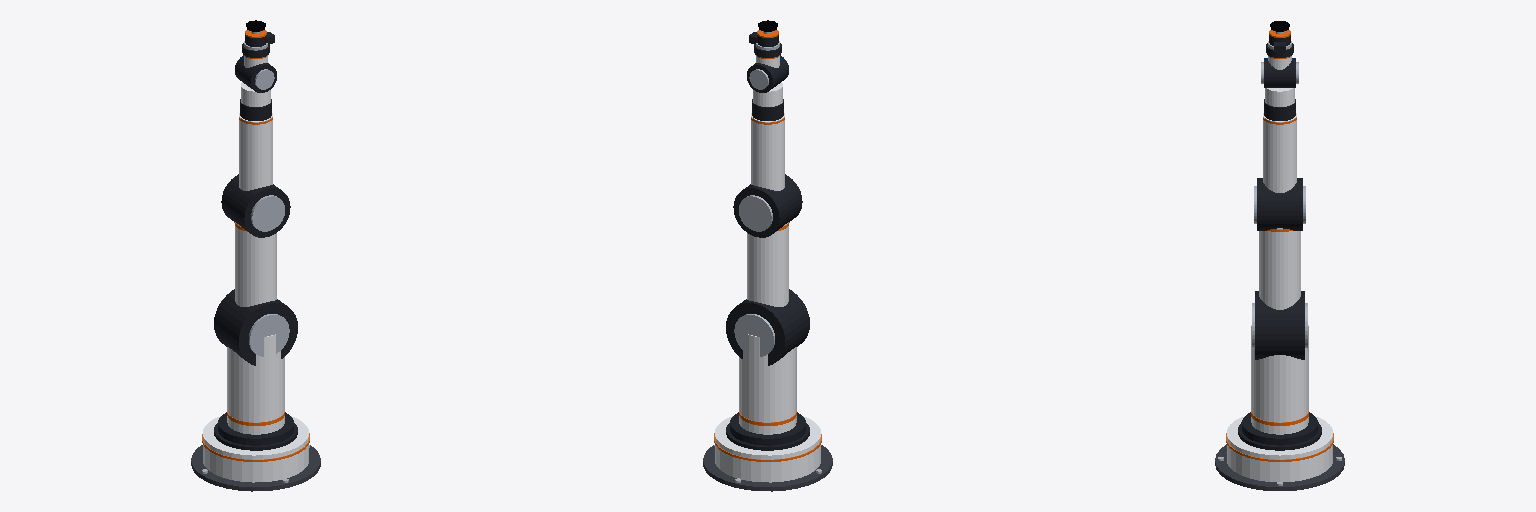
URDF robot description (robot_6axes):
<?xml version="1.0"?>
<robot name="robot_6axes">

  <!-- Base Link -->
  <link name="base_link">
    <visual>
      <geometry>
        <cylinder length="0.012" radius="0.17"/>
      </geometry>
      <origin xyz="0 0 0.006" rpy="0 0 0"/>
      <material name="anthracite">
        <color rgba="0.28 0.29 0.32 1"/>
      </material>
    </visual>
    <visual>
      <geometry>
        <cylinder length="0.078" radius="0.14"/>
      </geometry>
      <origin xyz="0 0 0.051" rpy="0 0 0"/>
      <material name="white">
        <color rgba="0.93 0.94 0.96 1"/>
      </material>
    </visual>
    <visual>
      <geometry>
        <cylinder length="0.006" radius="0.1425"/>
      </geometry>
      <origin xyz="0 0 0.075" rpy="0 0 0"/>
      <material name="orange">
        <color rgba="0.96 0.46 0.1 1"/>
      </material>
    </visual>
    <visual>
      <geometry>
        <cylinder length="0.01" radius="0.11"/>
      </geometry>
      <origin xyz="0 0 0.095" rpy="0 0 0"/>
      <material name="graphite">
        <color rgba="0.17 0.18 0.21 1"/>
      </material>
    </visual>
    <visual>
      <geometry>
        <cylinder length="0.006" radius="0.008"/>
      </geometry>
      <origin xyz="0.155 0 0.015" rpy="0 0 0"/>
      <material name="silver">
        <color rgba="0.72 0.75 0.79 1"/>
      </material>
    </visual>
    <visual>
      <geometry>
        <cylinder length="0.006" radius="0.008"/>
      </geometry>
      <origin xyz="-0.155 0 0.015" rpy="0 0 0"/>
      <material name="silver">
        <color rgba="0.72 0.75 0.79 1"/>
      </material>
    </visual>
    <visual>
      <geometry>
        <cylinder length="0.006" radius="0.008"/>
      </geometry>
      <origin xyz="0 0.155 0.015" rpy="0 0 0"/>
      <material name="silver">
        <color rgba="0.72 0.75 0.79 1"/>
      </material>
    </visual>
    <visual>
      <geometry>
        <cylinder length="0.006" radius="0.008"/>
      </geometry>
      <origin xyz="0 -0.155 0.015" rpy="0 0 0"/>
      <material name="silver">
        <color rgba="0.72 0.75 0.79 1"/>
      </material>
    </visual>
    <collision>
      <geometry>
        <cylinder length="0.1" radius="0.15"/>
      </geometry>
      <origin xyz="0 0 0.05" rpy="0 0 0"/>
    </collision>
    <inertial>
      <mass value="5.0"/>
      <origin xyz="0 0 0.05" rpy="0 0 0"/>
      <inertia ixx="0.05" ixy="0.0" ixz="0.0" iyy="0.05" iyz="0.0" izz="0.08"/>
    </inertial>
  </link>

  <!-- Link 1 -->
  <link name="link1">
    <visual>
      <geometry>
        <cylinder length="0.02" radius="0.1"/>
      </geometry>
      <origin xyz="0 0 0.01" rpy="0 0 0"/>
      <material name="graphite">
        <color rgba="0.17 0.18 0.21 1"/>
      </material>
    </visual>
    <visual>
      <geometry>
        <cylinder length="0.28" radius="0.075"/>
      </geometry>
      <origin xyz="0 0 0.16" rpy="0 0 0"/>
      <material name="white">
        <color rgba="0.93 0.94 0.96 1"/>
      </material>
    </visual>
    <visual>
      <geometry>
        <cylinder length="0.01" radius="0.0765"/>
      </geometry>
      <origin xyz="0 0 0.05" rpy="0 0 0"/>
      <material name="orange">
        <color rgba="0.96 0.46 0.1 1"/>
      </material>
    </visual>
    <visual>
      <geometry>
        <cylinder length="0.13" radius="0.09"/>
      </geometry>
      <origin xyz="0 0 0.30" rpy="1.5708 0 0"/>
      <material name="graphite">
        <color rgba="0.17 0.18 0.21 1"/>
      </material>
    </visual>
    <visual>
      <geometry>
        <cylinder length="0.145" radius="0.06"/>
      </geometry>
      <origin xyz="0 0 0.30" rpy="1.5708 0 0"/>
      <material name="silver">
        <color rgba="0.72 0.75 0.79 1"/>
      </material>
    </visual>
    <collision>
      <geometry>
        <cylinder length="0.3" radius="0.08"/>
      </geometry>
      <origin xyz="0 0 0.15" rpy="0 0 0"/>
    </collision>
    <inertial>
      <mass value="3.0"/>
      <origin xyz="0 0 0.15" rpy="0 0 0"/>
      <inertia ixx="0.025" ixy="0.0" ixz="0.0" iyy="0.025" iyz="0.0" izz="0.01"/>
    </inertial>
  </link>

  <!-- Joint 1: Base rotation -->
  <joint name="joint1" type="revolute">
    <parent link="base_link"/>
    <child link="link1"/>
    <origin xyz="0 0 0.1" rpy="0 0 0"/>
    <axis xyz="0 0 1"/>
    <limit effort="150.0" velocity="2.0" lower="-3.14159" upper="3.14159"/>
    <dynamics damping="1.5" friction="0.5"/>
  </joint>

  <!-- Link 2 -->
  <link name="link2">
    <visual>
      <geometry>
        <cylinder length="0.27" radius="0.055"/>
      </geometry>
      <origin xyz="0 0 0.18" rpy="0 0 0"/>
      <material name="white">
        <color rgba="0.93 0.94 0.96 1"/>
      </material>
    </visual>
    <visual>
      <geometry>
        <cylinder length="0.008" radius="0.0565"/>
      </geometry>
      <origin xyz="0 0 0.30" rpy="0 0 0"/>
      <material name="orange">
        <color rgba="0.96 0.46 0.1 1"/>
      </material>
    </visual>
    <visual>
      <geometry>
        <cylinder length="0.12" radius="0.07"/>
      </geometry>
      <origin xyz="0 0 0.35" rpy="1.5708 0 0"/>
      <material name="graphite">
        <color rgba="0.17 0.18 0.21 1"/>
      </material>
    </visual>
    <visual>
      <geometry>
        <cylinder length="0.135" radius="0.05"/>
      </geometry>
      <origin xyz="0 0 0.35" rpy="1.5708 0 0"/>
      <material name="silver">
        <color rgba="0.72 0.75 0.79 1"/>
      </material>
    </visual>
    <collision>
      <geometry>
        <cylinder length="0.35" radius="0.06"/>
      </geometry>
      <origin xyz="0 0 0.175" rpy="0 0 0"/>
    </collision>
    <inertial>
      <mass value="2.5"/>
      <origin xyz="0 0 0.175" rpy="0 0 0"/>
      <inertia ixx="0.03" ixy="0.0" ixz="0.0" iyy="0.03" iyz="0.0" izz="0.008"/>
    </inertial>
  </link>

  <!-- Joint 2: Shoulder -->
  <joint name="joint2" type="revolute">
    <parent link="link1"/>
    <child link="link2"/>
    <origin xyz="0 0 0.3" rpy="0 0 0"/>
    <axis xyz="0 1 0"/>
    <limit effort="120.0" velocity="1.8" lower="-1.57079" upper="1.57079"/>
    <dynamics damping="1.2" friction="0.4"/>
  </joint>

  <!-- Link 3 -->
  <link name="link3">
    <visual>
      <geometry>
        <cylinder length="0.22" radius="0.045"/>
      </geometry>
      <origin xyz="0 0 0.15" rpy="0 0 0"/>
      <material name="white">
        <color rgba="0.93 0.94 0.96 1"/>
      </material>
    </visual>
    <visual>
      <geometry>
        <cylinder length="0.006" radius="0.0455"/>
      </geometry>
      <origin xyz="0 0 0.255" rpy="0 0 0"/>
      <material name="orange">
        <color rgba="0.96 0.46 0.1 1"/>
      </material>
    </visual>
    <visual>
      <geometry>
        <cylinder length="0.04" radius="0.042"/>
      </geometry>
      <origin xyz="0 0 0.28" rpy="0 0 0"/>
      <material name="graphite">
        <color rgba="0.17 0.18 0.21 1"/>
      </material>
    </visual>
    <collision>
      <geometry>
        <cylinder length="0.3" radius="0.05"/>
      </geometry>
      <origin xyz="0 0 0.15" rpy="0 0 0"/>
    </collision>
    <inertial>
      <mass value="2.0"/>
      <origin xyz="0 0 0.15" rpy="0 0 0"/>
      <inertia ixx="0.02" ixy="0.0" ixz="0.0" iyy="0.02" iyz="0.0" izz="0.005"/>
    </inertial>
  </link>

  <!-- Joint 3: Elbow -->
  <joint name="joint3" type="revolute">
    <parent link="link2"/>
    <child link="link3"/>
    <origin xyz="0 0 0.35" rpy="0 0 0"/>
    <axis xyz="0 1 0"/>
    <limit effort="100.0" velocity="2.2" lower="-2.35619" upper="2.35619"/>
    <dynamics damping="1.0" friction="0.3"/>
  </joint>

  <!-- Link 4 -->
  <link name="link4">
    <visual>
      <geometry>
        <cylinder length="0.045" radius="0.04"/>
      </geometry>
      <origin xyz="0 0 0.0225" rpy="0 0 0"/>
      <material name="white">
        <color rgba="0.93 0.94 0.96 1"/>
      </material>
    </visual>
    <visual>
      <geometry>
        <cylinder length="0.085" radius="0.04"/>
      </geometry>
      <origin xyz="0 0 0.08" rpy="1.5708 0 0"/>
      <material name="graphite">
        <color rgba="0.17 0.18 0.21 1"/>
      </material>
    </visual>
    <visual>
      <geometry>
        <cylinder length="0.098" radius="0.028"/>
      </geometry>
      <origin xyz="0 0 0.08" rpy="1.5708 0 0"/>
      <material name="silver">
        <color rgba="0.72 0.75 0.79 1"/>
      </material>
    </visual>
    <collision>
      <geometry>
        <cylinder length="0.08" radius="0.04"/>
      </geometry>
      <origin xyz="0 0 0.04" rpy="0 0 0"/>
    </collision>
    <inertial>
      <mass value="1.0"/>
      <origin xyz="0 0 0.04" rpy="0 0 0"/>
      <inertia ixx="0.005" ixy="0.0" ixz="0.0" iyy="0.005" iyz="0.0" izz="0.002"/>
    </inertial>
  </link>

  <!-- Joint 4: Wrist roll -->
  <joint name="joint4" type="revolute">
    <parent link="link3"/>
    <child link="link4"/>
    <origin xyz="0 0 0.3" rpy="0 0 0"/>
    <axis xyz="0 0 1"/>
    <limit effort="50.0" velocity="2.5" lower="-3.14159" upper="3.14159"/>
    <dynamics damping="0.5" friction="0.2"/>
  </joint>

  <!-- Link 5 -->
  <link name="link5">
    <visual>
      <geometry>
        <cylinder length="0.05" radius="0.032"/>
      </geometry>
      <origin xyz="0 0 0.04" rpy="0 0 0"/>
      <material name="white">
        <color rgba="0.93 0.94 0.96 1"/>
      </material>
    </visual>
    <visual>
      <geometry>
        <cylinder length="0.005" radius="0.0335"/>
      </geometry>
      <origin xyz="0 0 0.0575" rpy="0 0 0"/>
      <material name="orange">
        <color rgba="0.96 0.46 0.1 1"/>
      </material>
    </visual>
    <visual>
      <geometry>
        <cylinder length="0.02" radius="0.036"/>
      </geometry>
      <origin xyz="0 0 0.07" rpy="0 0 0"/>
      <material name="graphite">
        <color rgba="0.17 0.18 0.21 1"/>
      </material>
    </visual>
    <collision>
      <geometry>
        <cylinder length="0.08" radius="0.035"/>
      </geometry>
      <origin xyz="0 0 0.04" rpy="0 0 0"/>
    </collision>
    <inertial>
      <mass value="0.8"/>
      <origin xyz="0 0 0.04" rpy="0 0 0"/>
      <inertia ixx="0.003" ixy="0.0" ixz="0.0" iyy="0.003" iyz="0.0" izz="0.001"/>
    </inertial>
  </link>

  <!-- Joint 5: Wrist pitch -->
  <joint name="joint5" type="revolute">
    <parent link="link4"/>
    <child link="link5"/>
    <origin xyz="0 0 0.08" rpy="0 0 0"/>
    <axis xyz="0 1 0"/>
    <limit effort="40.0" velocity="2.8" lower="-1.74533" upper="1.74533"/>
    <dynamics damping="0.4" friction="0.15"/>
  </joint>

  <!-- Link 6 (End Effector) -->
  <link name="link6">
    <visual>
      <geometry>
        <cylinder length="0.008" radius="0.032"/>
      </geometry>
      <origin xyz="0 0 0.004" rpy="0 0 0"/>
      <material name="silver">
        <color rgba="0.72 0.75 0.79 1"/>
      </material>
    </visual>
    <visual>
      <geometry>
        <cylinder length="0.026" radius="0.028"/>
      </geometry>
      <origin xyz="0 0 0.021" rpy="0 0 0"/>
      <material name="graphite">
        <color rgba="0.17 0.18 0.21 1"/>
      </material>
    </visual>
    <visual>
      <geometry>
        <cylinder length="0.004" radius="0.0285"/>
      </geometry>
      <origin xyz="0 0 0.036" rpy="0 0 0"/>
      <material name="orange">
        <color rgba="0.96 0.46 0.1 1"/>
      </material>
    </visual>
    <visual>
      <geometry>
        <cylinder length="0.012" radius="0.012"/>
      </geometry>
      <origin xyz="0 0 0.044" rpy="0 0 0"/>
      <material name="silver">
        <color rgba="0.72 0.75 0.79 1"/>
      </material>
    </visual>
    <visual>
      <geometry>
        <cylinder length="0.007" radius="0.024"/>
      </geometry>
      <origin xyz="0 0 0.0535" rpy="0 0 0"/>
      <material name="rubber">
        <color rgba="0.04 0.04 0.04 1"/>
      </material>
    </visual>
    <visual>
      <geometry>
        <cylinder length="0.003" radius="0.026"/>
      </geometry>
      <origin xyz="0 0 0.0585" rpy="0 0 0"/>
      <material name="rubber">
        <color rgba="0.04 0.04 0.04 1"/>
      </material>
    </visual>
    <visual>
      <geometry>
        <box size="0.024 0.03 0.02"/>
      </geometry>
      <origin xyz="0.038 0 0.012" rpy="0 0 0"/>
      <material name="graphite">
        <color rgba="0.17 0.18 0.21 1"/>
      </material>
    </visual>
    <visual>
      <geometry>
        <cylinder length="0.002" radius="0.008"/>
      </geometry>
      <origin xyz="0.049 0 0.012" rpy="0 1.5708 0"/>
      <material name="glass">
        <color rgba="0.04 0.07 0.14 1"/>
      </material>
    </visual>
    <collision>
      <geometry>
        <box size="0.06 0.03 0.03"/>
      </geometry>
      <origin xyz="0 0 0.03" rpy="0 0 0"/>
    </collision>
    <inertial>
      <mass value="0.5"/>
      <origin xyz="0 0 0.03" rpy="0 0 0"/>
      <inertia ixx="0.001" ixy="0.0" ixz="0.0" iyy="0.001" iyz="0.0" izz="0.0005"/>
    </inertial>
  </link>

  <!-- Joint 6: Wrist yaw -->
  <joint name="joint6" type="revolute">
    <parent link="link5"/>
    <child link="link6"/>
    <origin xyz="0 0 0.08" rpy="0 0 0"/>
    <axis xyz="0 0 1"/>
    <limit effort="30.0" velocity="3.0" lower="-3.14159" upper="3.14159"/>
    <dynamics damping="0.3" friction="0.1"/>
  </joint>

</robot>

--- Facts derived from the render (not from the file) ---
The picture shows the robot from 3 angles, left to right: view 1: azimuth 30°, elevation 25°; view 2: azimuth 150°, elevation 25°; view 3: azimuth 270°, elevation 25°; orthographic projection.
Robot: robot_6axes — 7 links, 6 joints (6 revolute); root link base_link; default pose: all joints at 0.
Links seen in each view (by area): view 1: link1, base_link, link2, link3, link4, link6; view 2: link1, base_link, link2, link3, link4, link6; view 3: link1, base_link, link2, link3, link4, link6.
Link boxes in pixels (<box>): link1: <box>214,289,297,445</box>; base_link: <box>191,416,320,491</box>; link2: <box>221,174,290,306</box>; link3: <box>239,99,272,190</box>; link4: <box>235,55,276,106</box>; link6: <box>244,20,274,50</box>; link1: <box>726,289,809,445</box>; base_link: <box>703,416,832,491</box>; link2: <box>733,174,802,306</box>; link3: <box>751,99,784,190</box>; link4: <box>747,55,788,106</box>; link6: <box>749,20,779,50</box>; link1: <box>1242,291,1317,445</box>; base_link: <box>1215,416,1344,490</box>; link2: <box>1254,178,1305,309</box>; link3: <box>1263,99,1296,192</box>; link4: <box>1261,58,1298,106</box>; link6: <box>1268,21,1291,52</box>.
Bounding box of the posed robot: 0.34 × 0.34 × 1.27 m (x, y, z).
Geometry: primitives only (box / cylinder / sphere), no mesh files.
